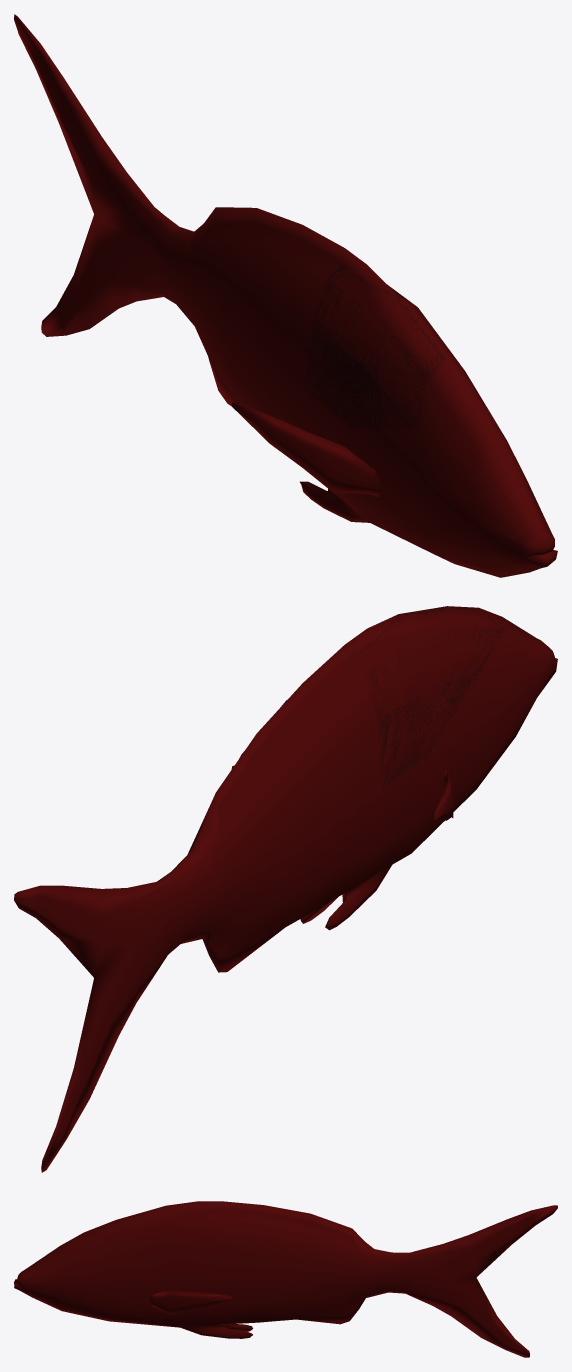
Rendered from SM_YellowSnapper_School30.fbx.
The picture shows the model from 3 angles, top to bottom: view 1: azimuth 30°, elevation 25°; view 2: azimuth 150°, elevation 25°; view 3: azimuth 270°, elevation 25°; orthographic projection. The views are drawn at different scales.
Visible parts, largest first — view 1: yellow_snapper19; view 2: yellow_snapper19; view 3: yellow_snapper19.
Boxes of the visible parts, box(x1,y1,x2,y2) form: yellow_snapper19: box(14, 14, 557, 577); yellow_snapper19: box(14, 606, 557, 1172); yellow_snapper19: box(14, 1201, 557, 1357).
Size of the model in its own units: 193 by 278 by 876.
